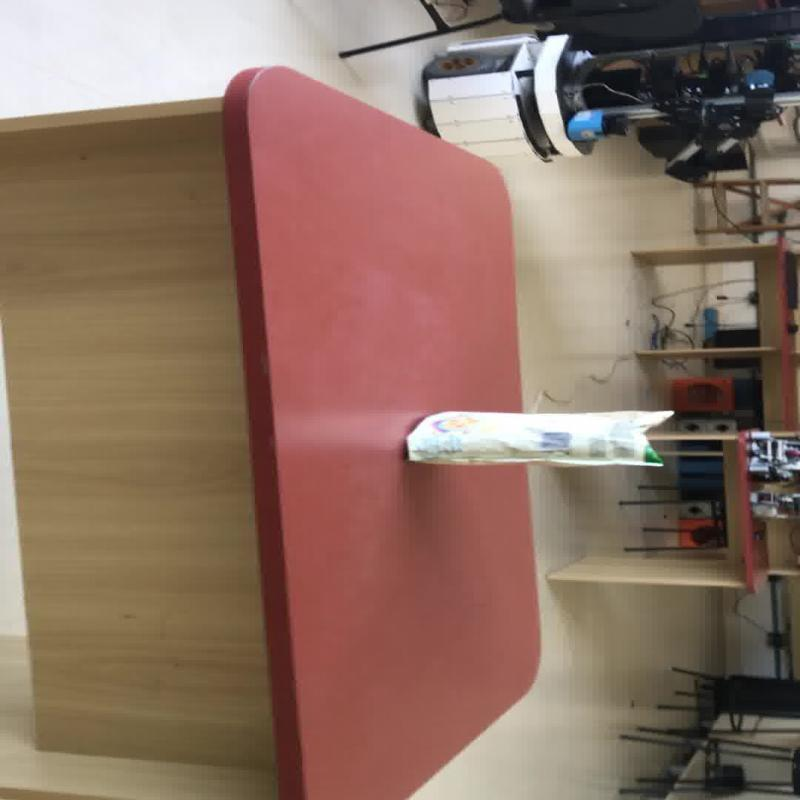corn flakes: (404, 408, 672, 467)
